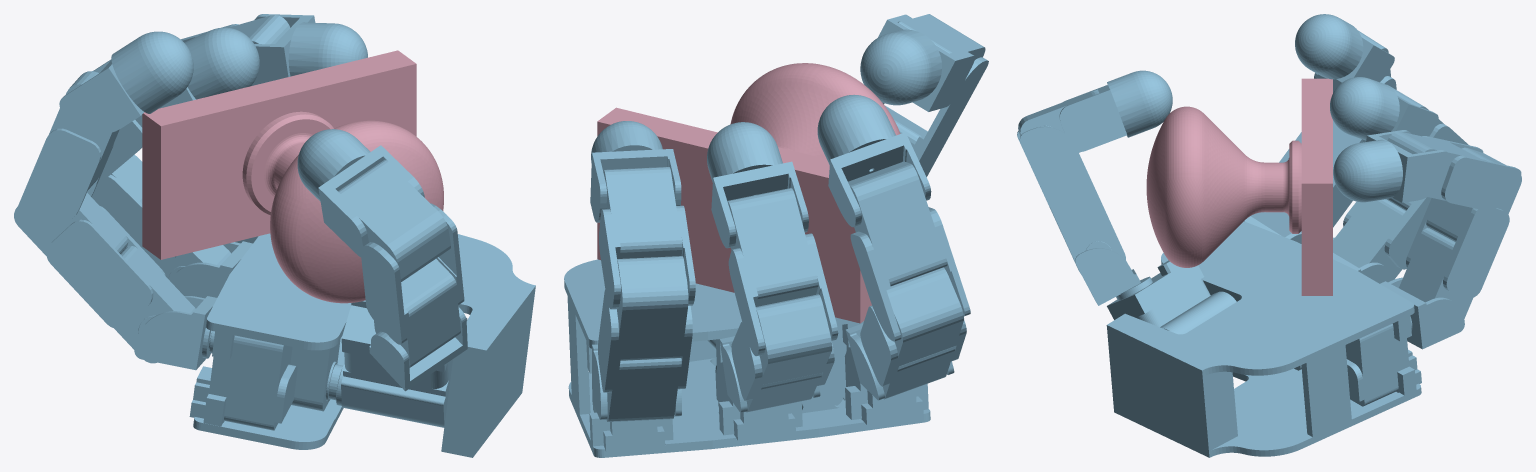
3 renders of one model, left to right at view 1: azimuth 30°, elevation 25°; view 2: azimuth 150°, elevation 25°; view 3: azimuth 270°, elevation 25°, orthographic. The views are drawn at different scales.
Parts seen in each view (by area): view 1: world; view 2: world; view 3: world.
Boxes of the visible parts, box(x1,y1,x2,y2) form: world: box(14, 14, 535, 457); world: box(564, 14, 988, 457); world: box(1017, 14, 1521, 457).
Size of the model in its own units: 0.1716 by 0.1421 by 0.2033.
